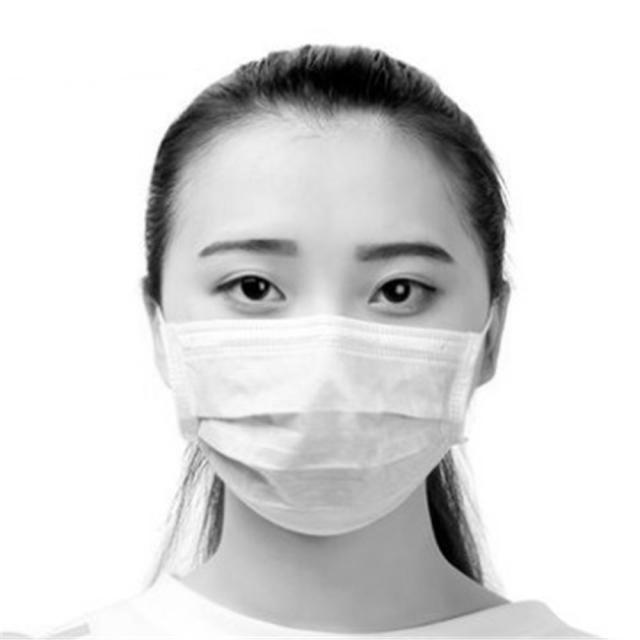fake: (155, 320, 488, 545)
real: (161, 99, 490, 539)
